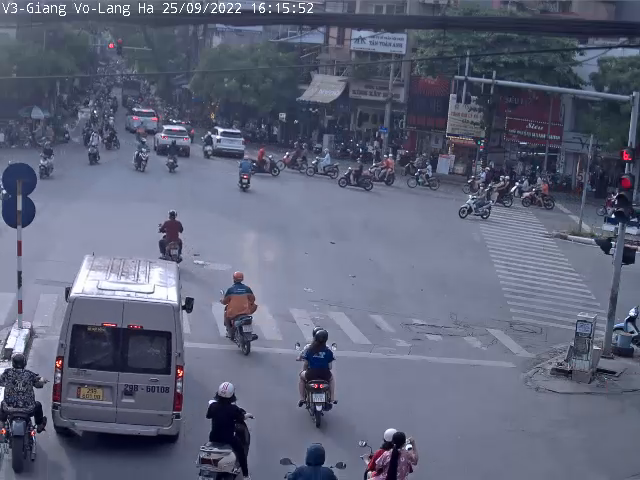người trên xe: (189, 371, 261, 480), (0, 352, 56, 472), (292, 316, 343, 432), (349, 419, 436, 480), (216, 267, 261, 364), (263, 434, 351, 480), (151, 205, 191, 272), (234, 153, 259, 197), (163, 138, 185, 175)
